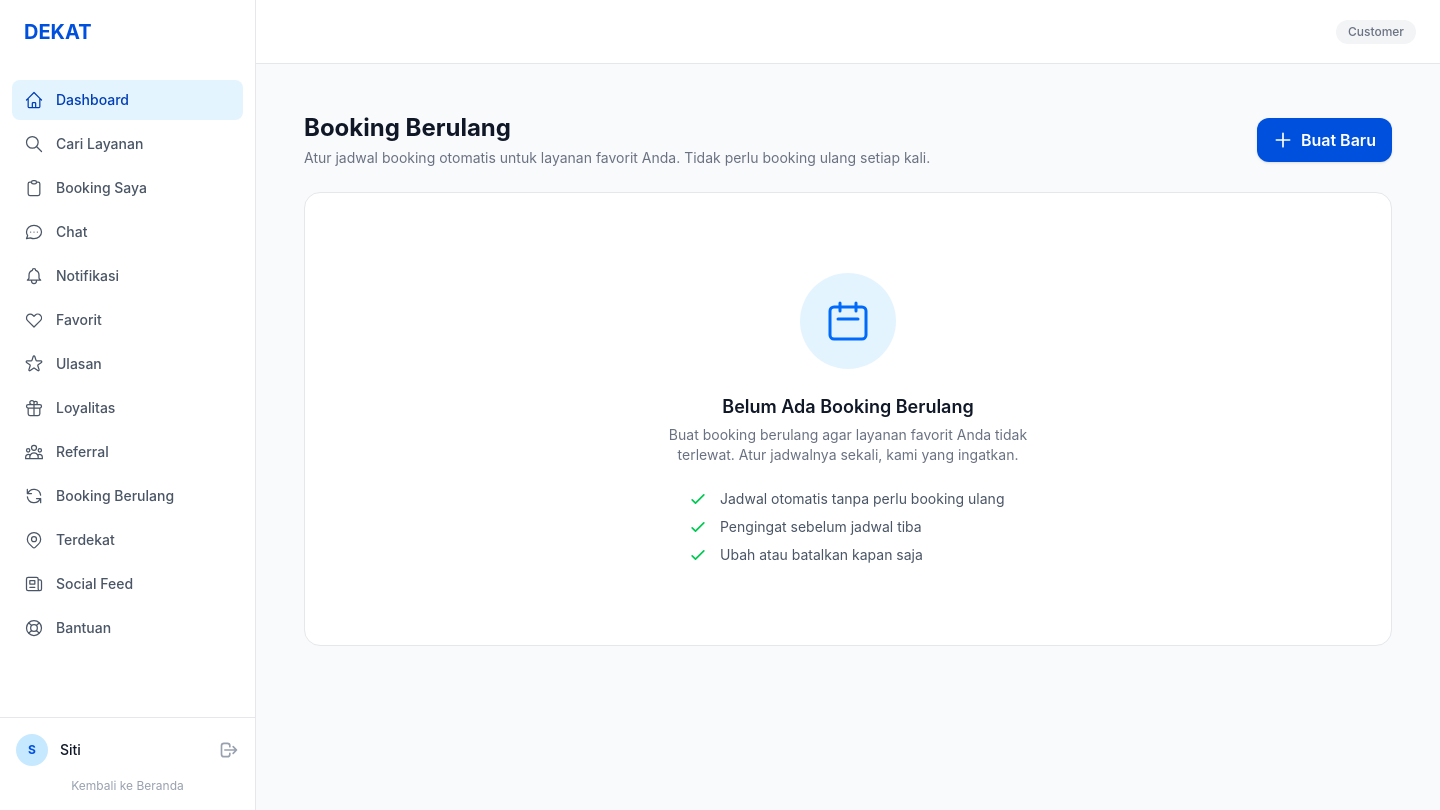
RecurringBookingsPage › opens create modal when Buat Baru is clicked
This screenshot has width=1440, height=810.
Expected: the heading "Belum Ada Booking Berulang" is shown, [722,393,974,421]
Click the button "Buat Baru": {"x": 1324, "y": 140} [1257,118,1392,162]
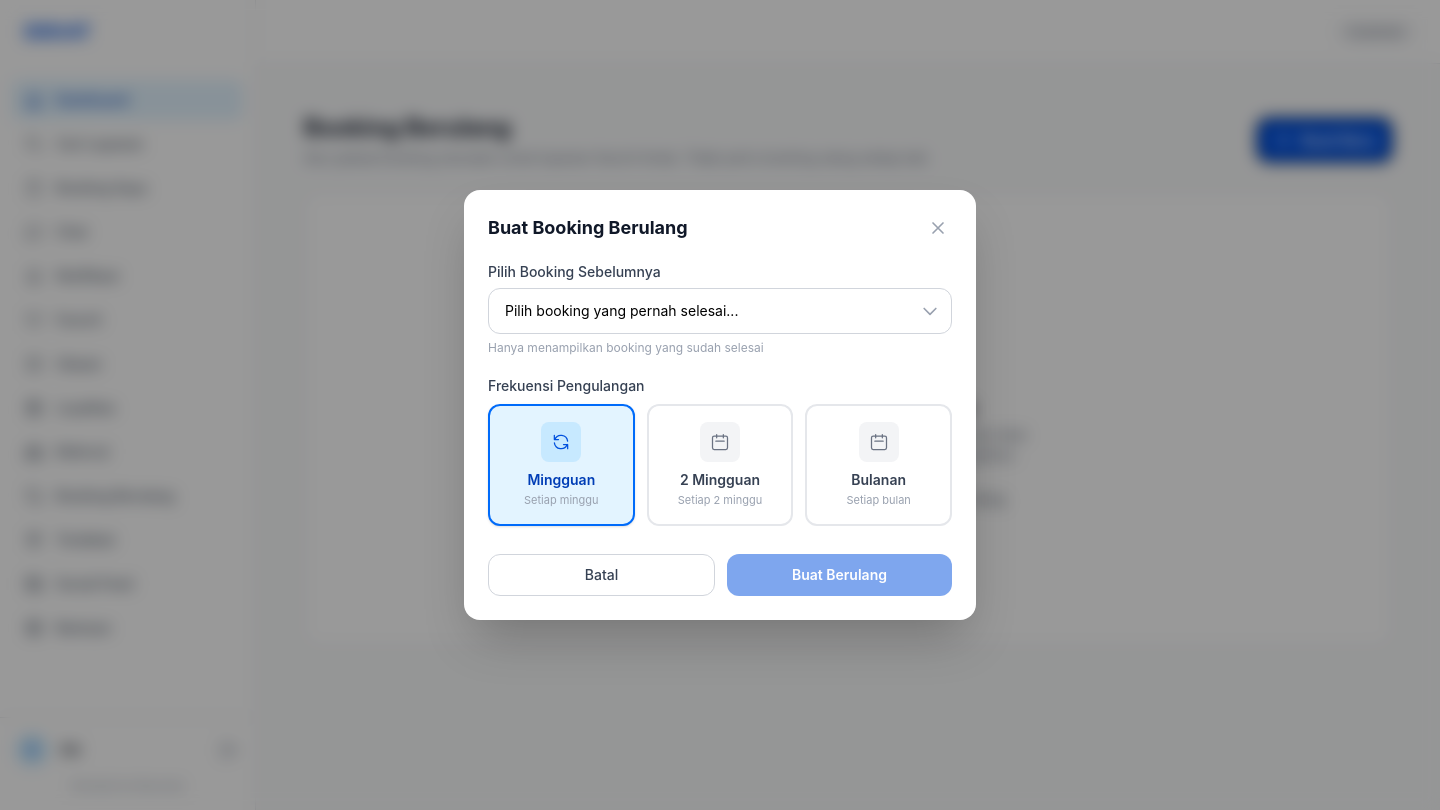
Expected: the heading "Buat Booking Berulang" is shown, [488,214,688,242]
Expected: the text "Frekuensi Pengulangan" is shown, [488,377,644,394]
